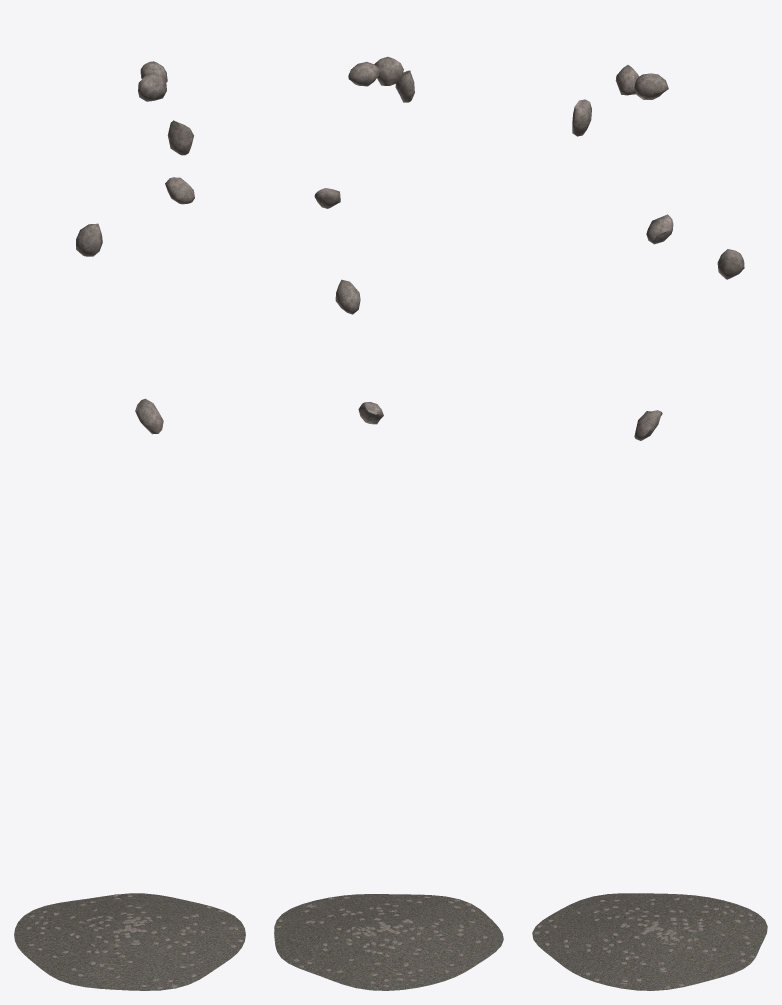
Rendered from ALV-AGR-006_anim.glb.
The picture shows the model from 3 angles, left to right: view 1: azimuth 30°, elevation 25°; view 2: azimuth 150°, elevation 25°; view 3: azimuth 270°, elevation 25°; orthographic projection.
Parts seen in each view (by area): view 1: ALV-AGR-006_anim_monte, ALV-AGR-006_anim_t1, ALV-AGR-006_anim_t4, ALV-AGR-006_anim_t0, ALV-AGR-006_anim_t3, ALV-AGR-006_anim_t2; view 2: ALV-AGR-006_anim_monte, ALV-AGR-006_anim_t1, ALV-AGR-006_anim_t3, ALV-AGR-006_anim_t5; view 3: ALV-AGR-006_anim_monte, ALV-AGR-006_anim_t5, ALV-AGR-006_anim_t1, ALV-AGR-006_anim_t4, ALV-AGR-006_anim_t2, ALV-AGR-006_anim_t0.
Part boxes in pixels (x1,y1,x2,y2): ALV-AGR-006_anim_monte: (14,893,245,990); ALV-AGR-006_anim_t1: (76,223,102,256); ALV-AGR-006_anim_t4: (167,120,193,155); ALV-AGR-006_anim_t0: (135,398,163,434); ALV-AGR-006_anim_t3: (138,72,166,101); ALV-AGR-006_anim_t2: (165,177,194,204); ALV-AGR-006_anim_monte: (274,894,503,990); ALV-AGR-006_anim_t1: (335,279,360,314); ALV-AGR-006_anim_t3: (374,56,403,85); ALV-AGR-006_anim_t5: (348,61,380,86); ALV-AGR-006_anim_monte: (532,893,767,990); ALV-AGR-006_anim_t5: (634,73,668,99); ALV-AGR-006_anim_t1: (717,249,744,279); ALV-AGR-006_anim_t4: (572,99,591,136); ALV-AGR-006_anim_t2: (646,214,673,244); ALV-AGR-006_anim_t0: (634,410,662,440).
Bounding box in the file's own units: 0.243 × 1.05 × 0.2472.
2 materials, 2 textured.
